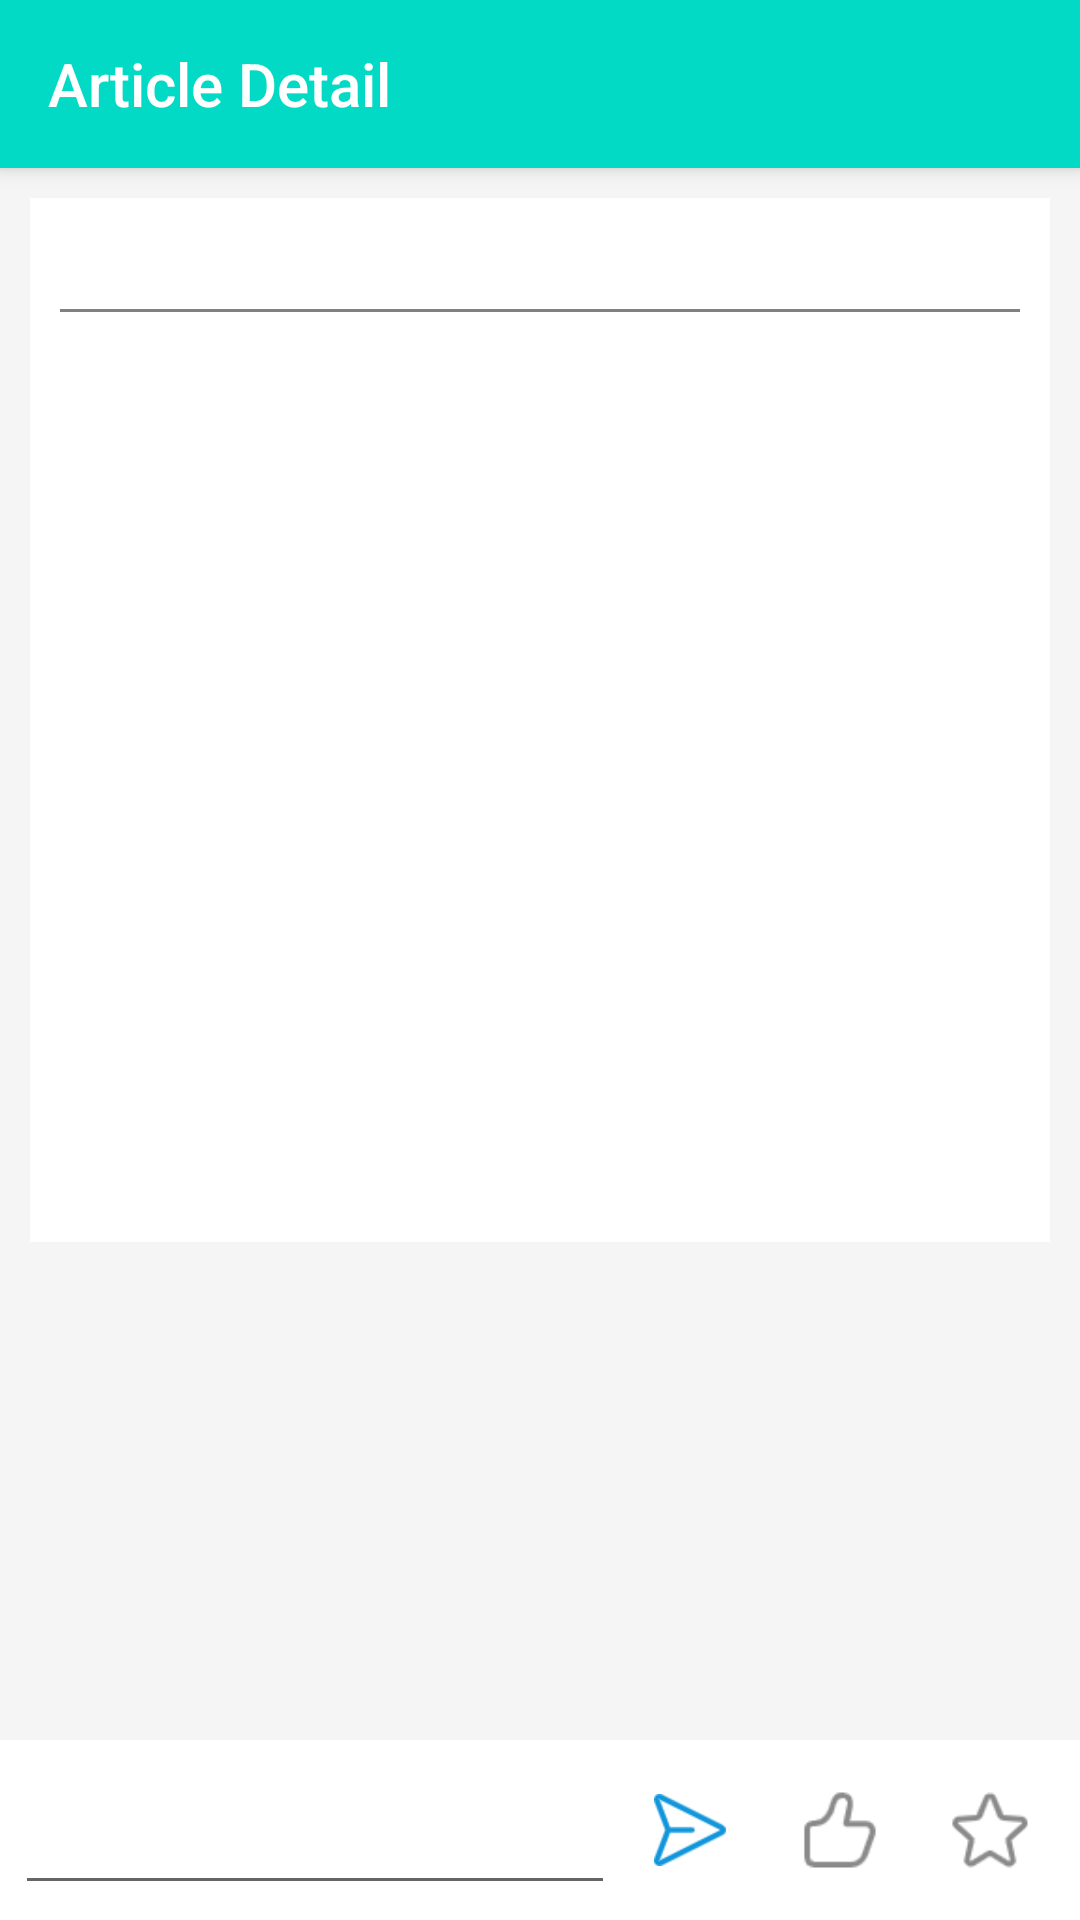

Icon bounding boxes for this 1080px x 1920px phone screenshot, format (x1, y1, x2, y2):
collection: (952, 1793, 1028, 1868)
good: (804, 1792, 876, 1868)
send: (654, 1794, 726, 1866)
